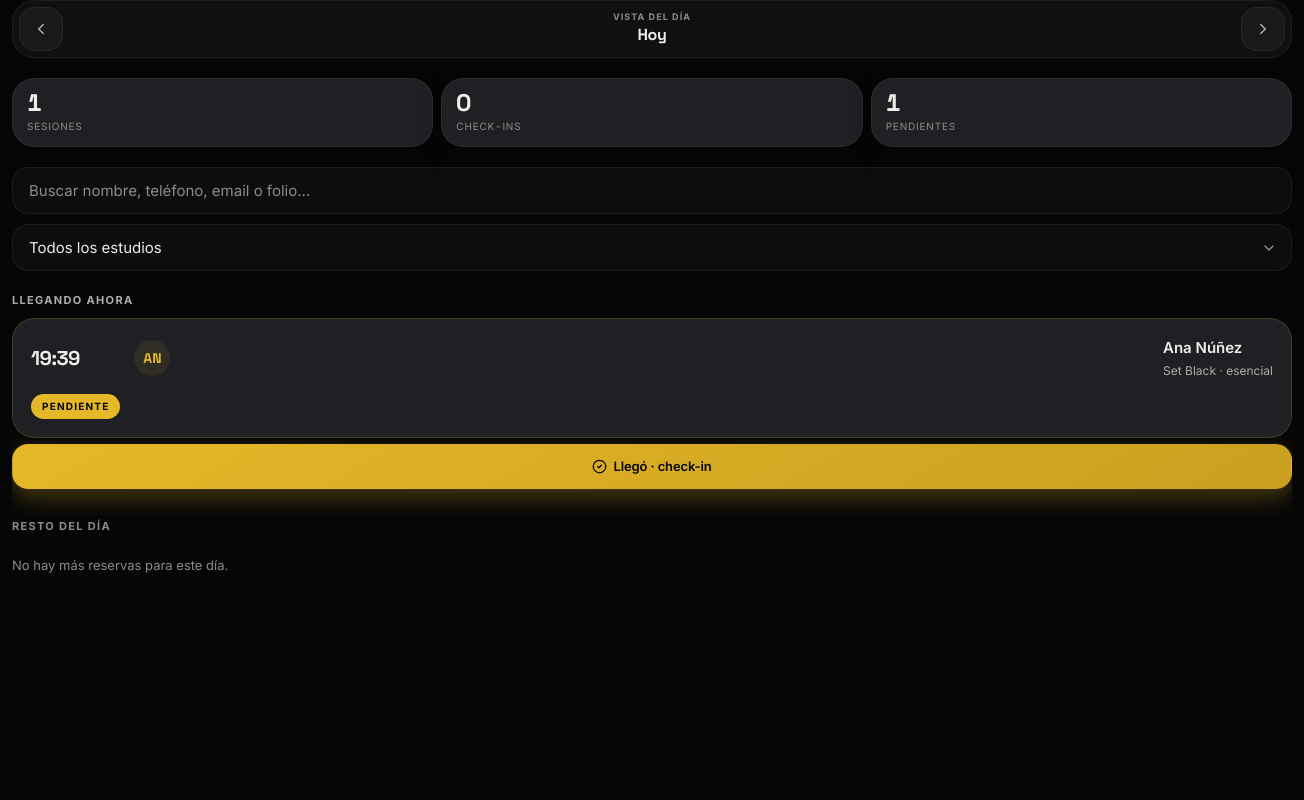
Test: ReservasHoyView · atajos de mostrador › busca por los últimos dígitos del teléfono
Expected: the text "Ana Núñez" is shown, top-left (1163, 338), bottom-right (1242, 357)
In the search field named "Buscar reserva": (652, 190) top-left (12, 167), bottom-right (1292, 214), type "4567"
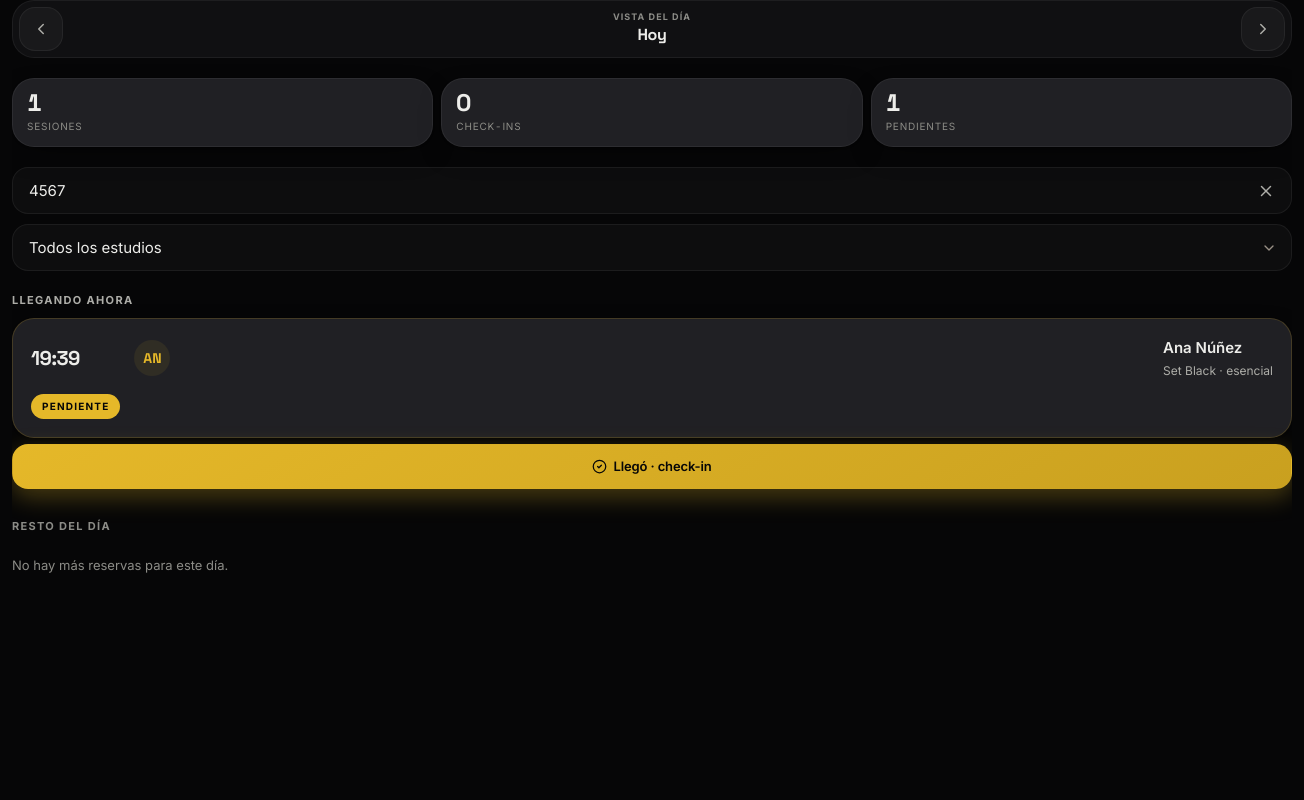
Expected: the text "Ana Núñez" is shown, top-left (1163, 338), bottom-right (1242, 357)
Replace the text in the search field named "Buscar reserva" with "9999": (652, 190) top-left (12, 167), bottom-right (1292, 214)
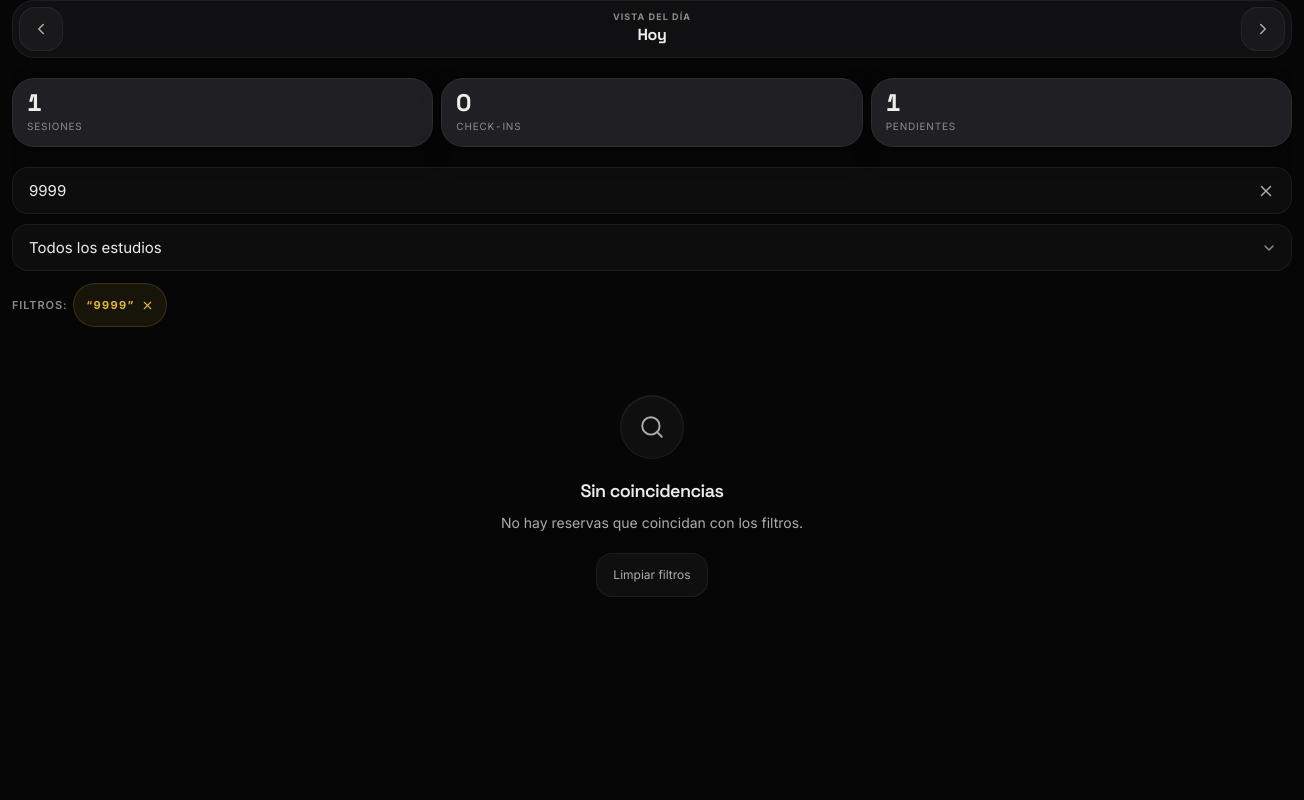
Result: the text "Sin coincidencias" is shown at top-left (580, 479), bottom-right (723, 502)
